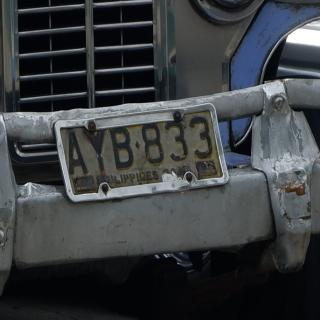license: (56, 105, 230, 203)
